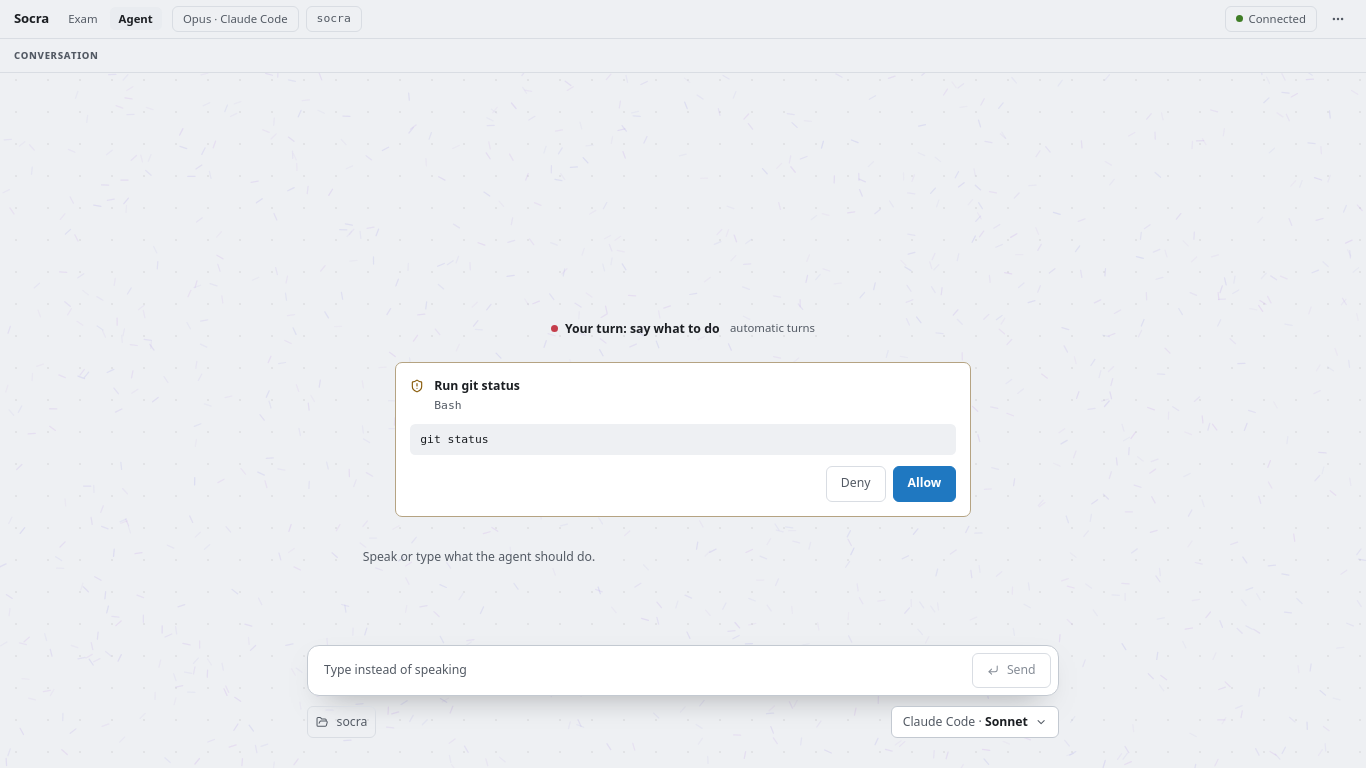
Test: AgentApp › asks for permission on the page and sends the answer
Click the button "Allow" at coordinates (924, 484), box [892,466,956,502]
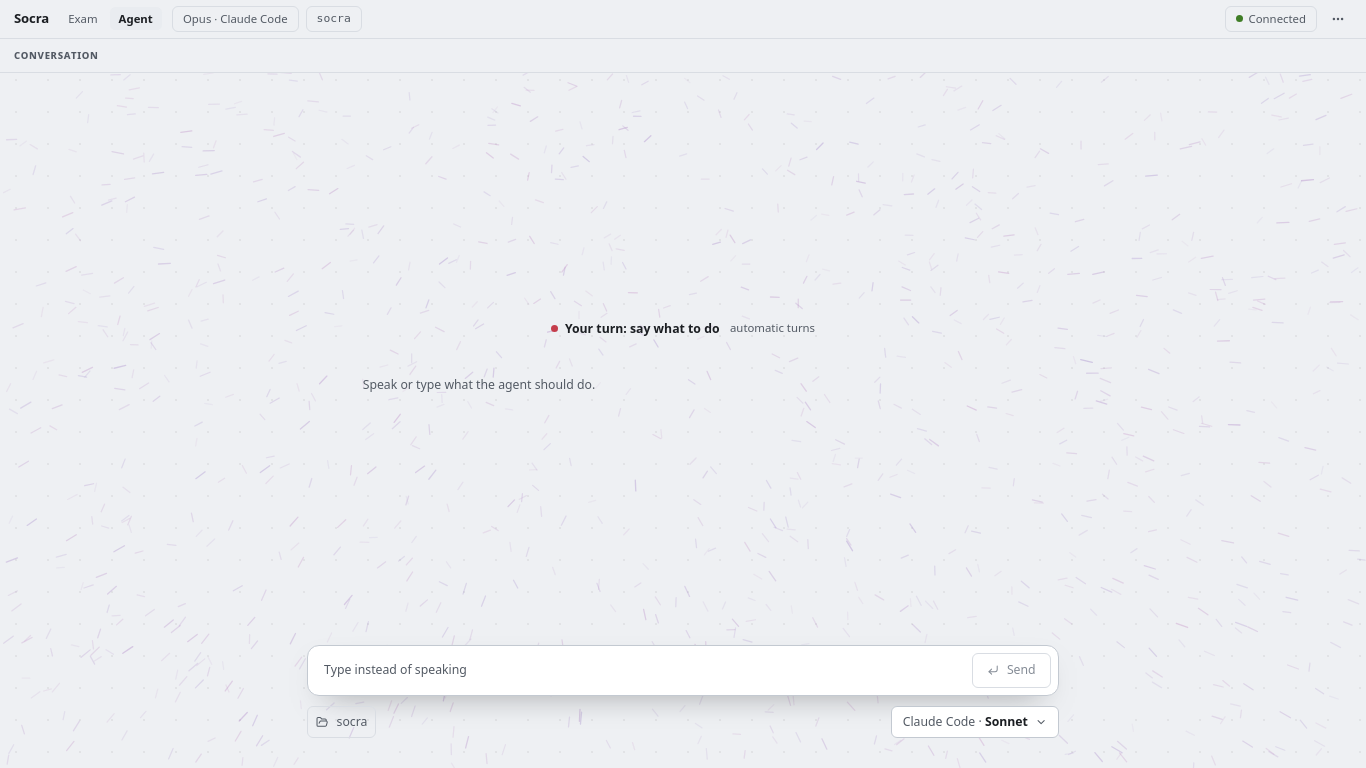
Result: the button "Allow" is gone
